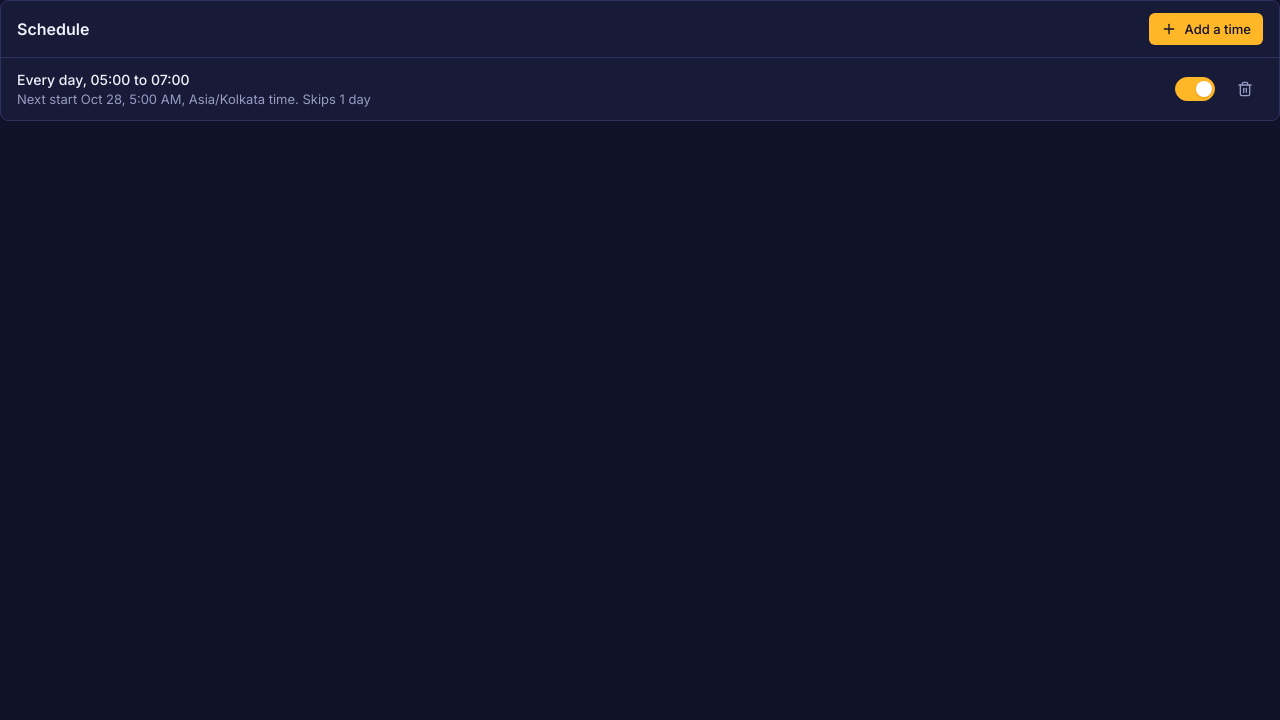
Test case: deleting a schedule asks first (UX audit 8) › says the stream on air now keeps running
What coordinates should you click on to do the following:
click the button named "Delete this schedule"
I would click on:
 (1245, 89)
Its box is [1227,71,1263,107].
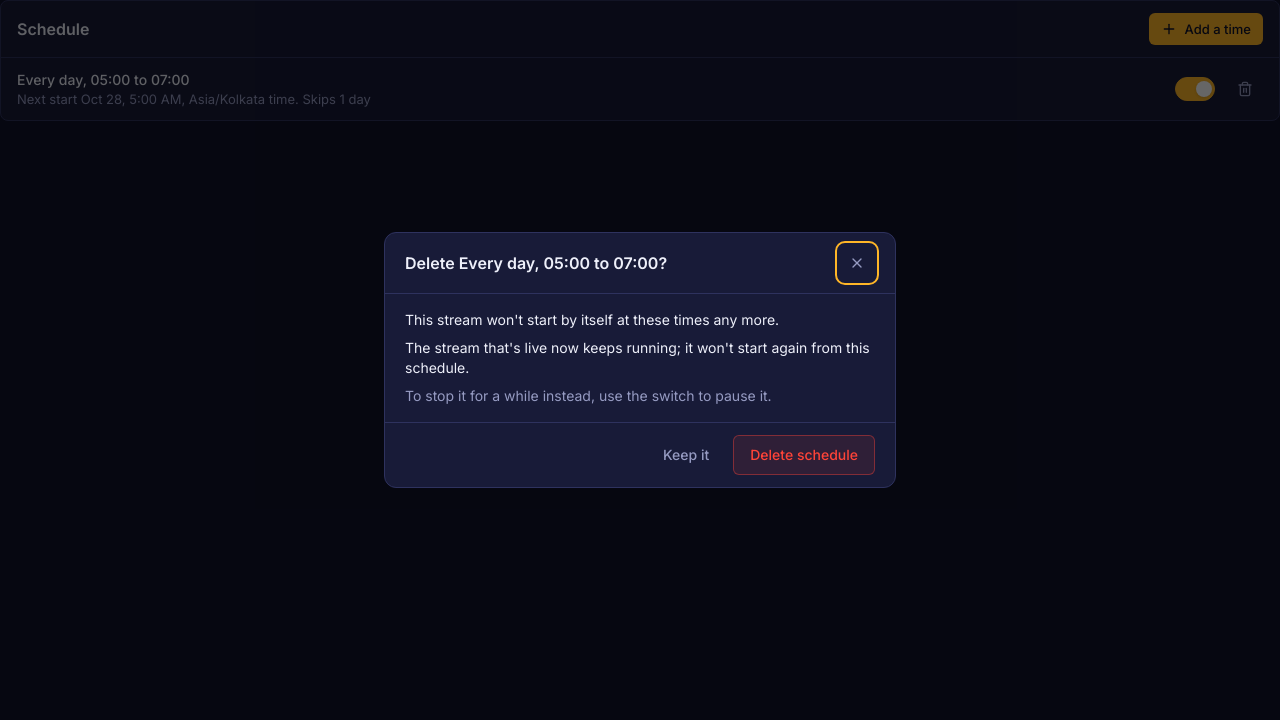
Expected: the text "The stream that's live now keeps running; it won't start again from this schedule." is shown, [405,339,870,376]
